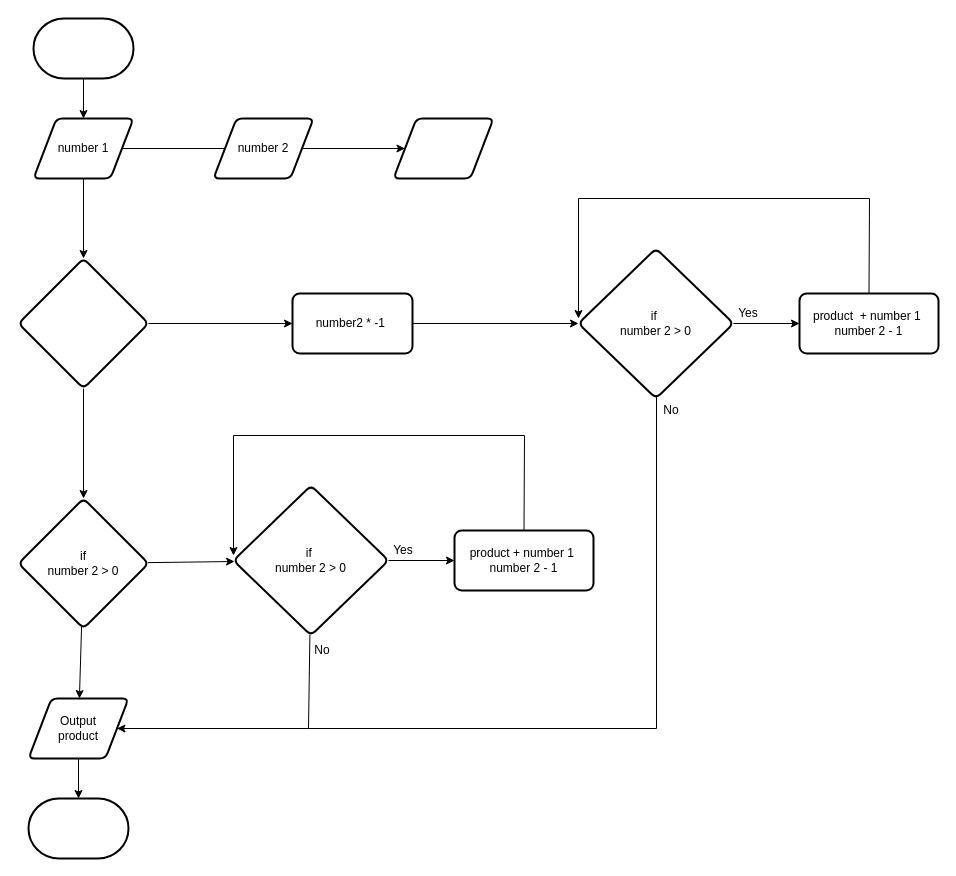
The diagram is 956 pixels wide and 876 high, and some of its shapes have lost their labels. Each missing label, with the centre of its shape:
"if number 2 < 0" goes at point 83,323.
"product" goes at point 443,148.
"Start" goes at point 83,48.
"Stop" goes at point 78,828.
